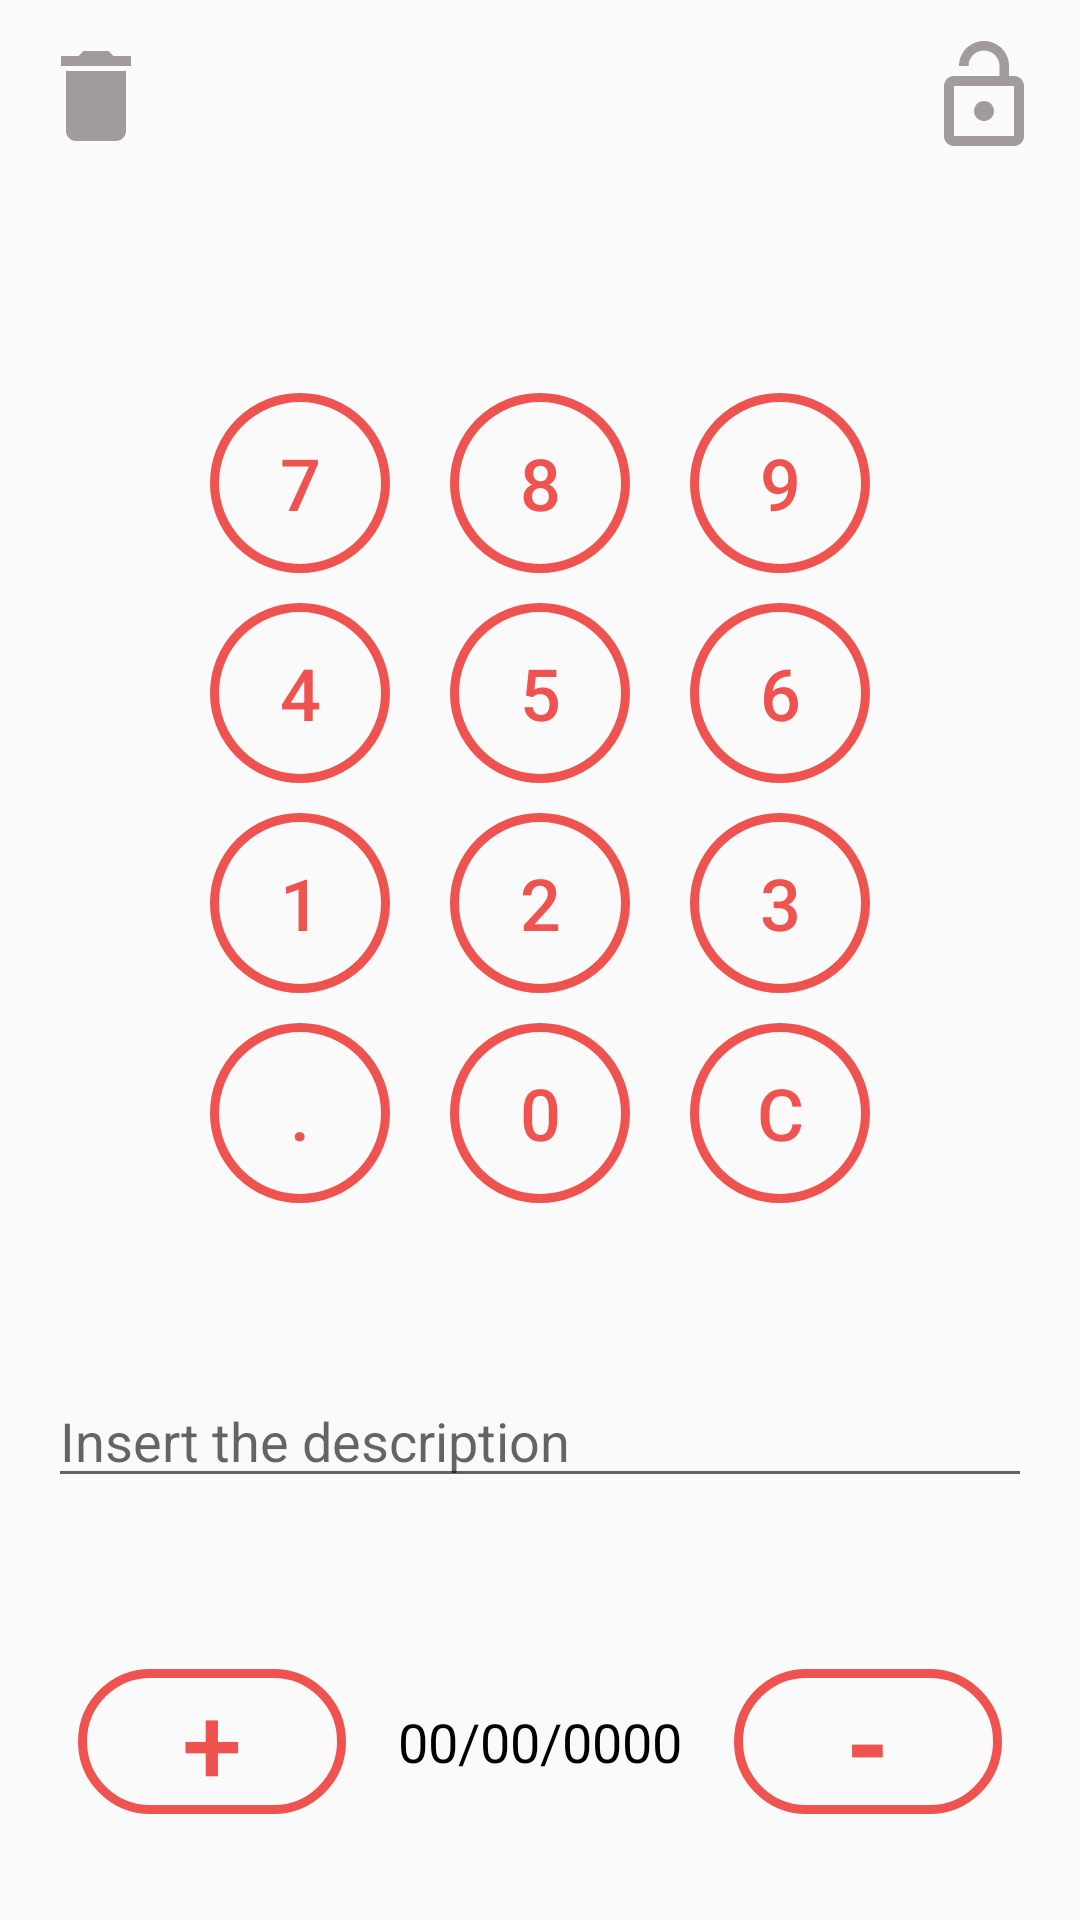

Screen size 1080 x 1920. Icon name, then its center in pixels as [x,y]:
lock open: [984,93]
